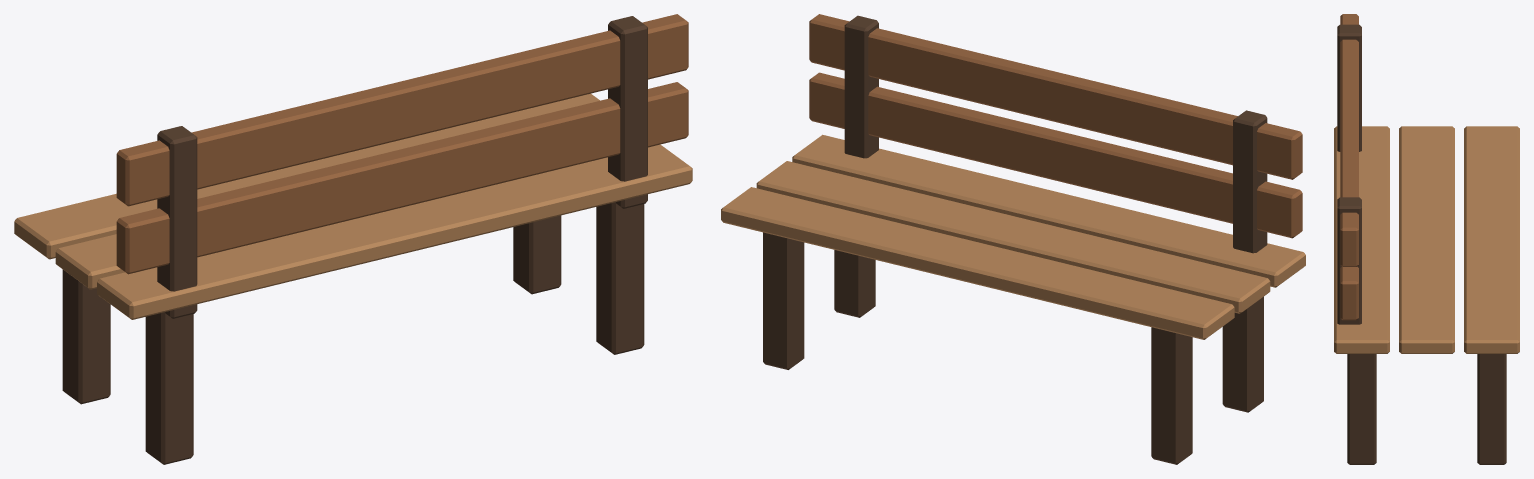
File: bench.glb
3 renders of one model, left to right at view 1: azimuth 30°, elevation 25°; view 2: azimuth 150°, elevation 25°; view 3: azimuth 270°, elevation 25°, orthographic. The views are drawn at different scales.
Visible parts, largest first — view 1: Alfa_bench; view 2: Alfa_bench; view 3: Alfa_bench.
Part boxes in pixels (<box>): Alfa_bench: <box>14,14,692,464</box>; Alfa_bench: <box>721,14,1305,464</box>; Alfa_bench: <box>1334,14,1519,464</box>.
Bounding box in the file's own units: 1.65 × 0.92 × 0.6.
